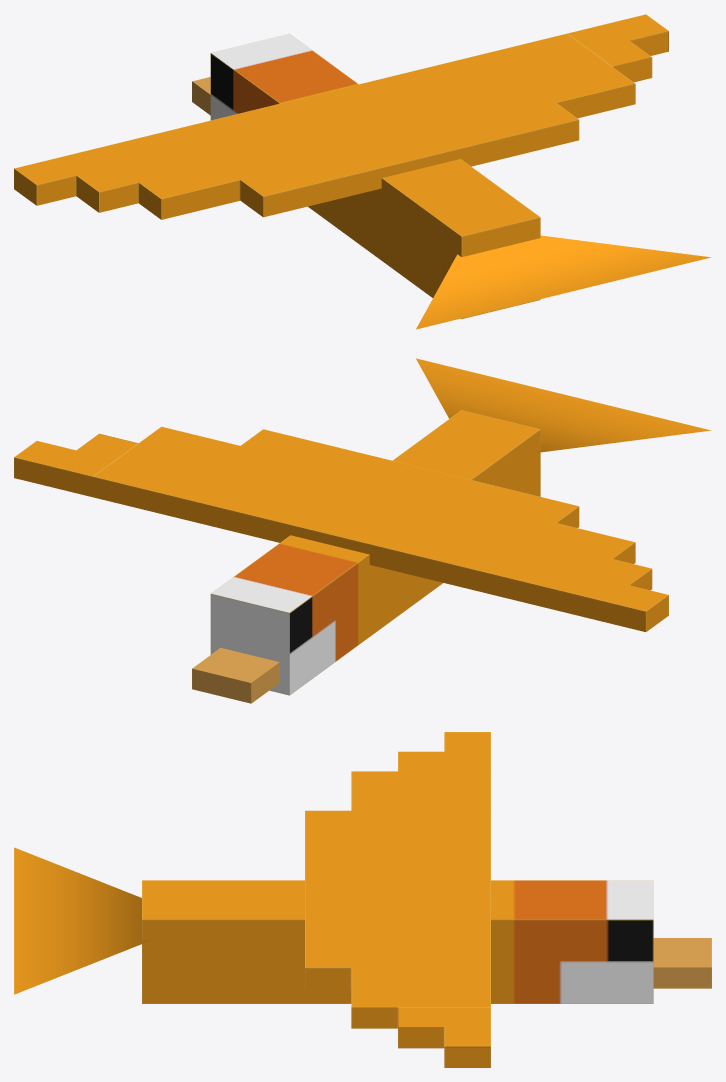
Rendered from Birb3.fbx.
3 renders of one model, top to bottom at view 1: azimuth 30°, elevation 25°; view 2: azimuth 150°, elevation 25°; view 3: azimuth 270°, elevation 25°, orthographic. The views are drawn at different scales.
Parts seen in each view (by area): view 1: cuboid_1, cuboid, pyramid, cuboid_2; view 2: cuboid_1, cuboid, pyramid, cuboid_2; view 3: cuboid_1, cuboid, pyramid, cuboid_2.
Boxes of the visible parts, left/top/right/bottom form: cuboid_1: left=14, top=14, right=668, bottom=219; cuboid: left=210, top=33, right=540, bottom=319; pyramid: left=416, top=235, right=711, bottom=329; cuboid_2: left=192, top=77, right=210, bottom=115; cuboid_1: left=14, top=426, right=668, bottom=631; cuboid: left=210, top=410, right=540, bottom=695; pyramid: left=416, top=358, right=711, bottom=452; cuboid_2: left=192, top=647, right=279, bottom=703; cuboid_1: left=305, top=732, right=490, bottom=1067; cuboid: left=142, top=880, right=653, bottom=1003; pyramid: left=14, top=847, right=149, bottom=994; cuboid_2: left=653, top=938, right=711, bottom=988.
Bounding box in the file's own units: 100 × 14.06 × 93.75.
1 material, 1 textured.
